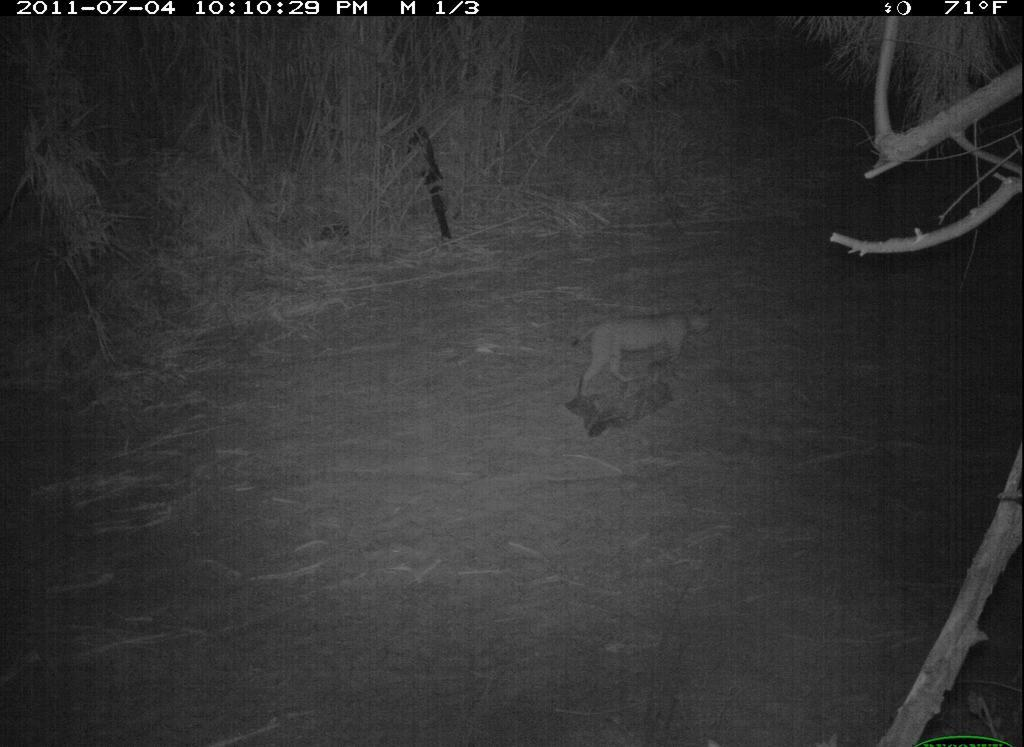bobcat: (571, 300, 722, 401)
